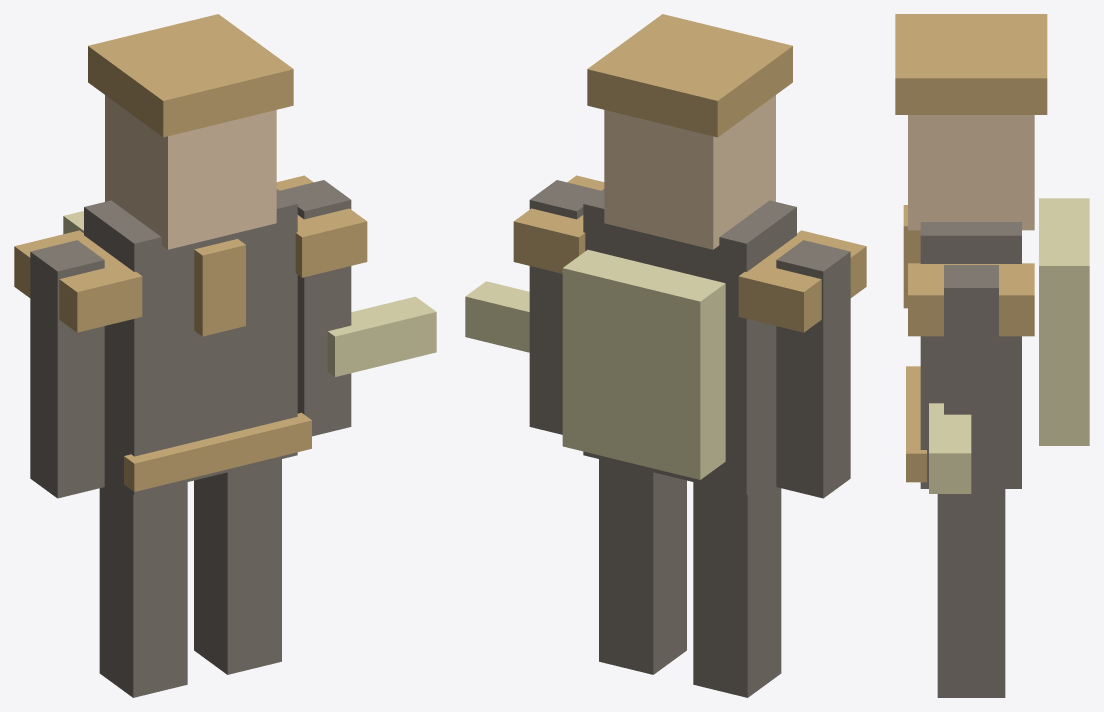
The model's file is 09_makoa_starfall_diver_from_supply.glb.
3 renders of one model, left to right at view 1: azimuth 30°, elevation 25°; view 2: azimuth 150°, elevation 25°; view 3: azimuth 270°, elevation 25°, orthographic.
Visible parts, largest first — view 1: Makoa Starfall, Diver from Supply; view 2: Makoa Starfall, Diver from Supply; view 3: Makoa Starfall, Diver from Supply.
Part boxes in pixels (left/top/right/bottom): Makoa Starfall, Diver from Supply: left=14, top=14, right=436, bottom=697; Makoa Starfall, Diver from Supply: left=465, top=14, right=866, bottom=697; Makoa Starfall, Diver from Supply: left=895, top=14, right=1089, bottom=697.
Size of the model in its own units: 0.9991 by 1.57 by 0.4484.
